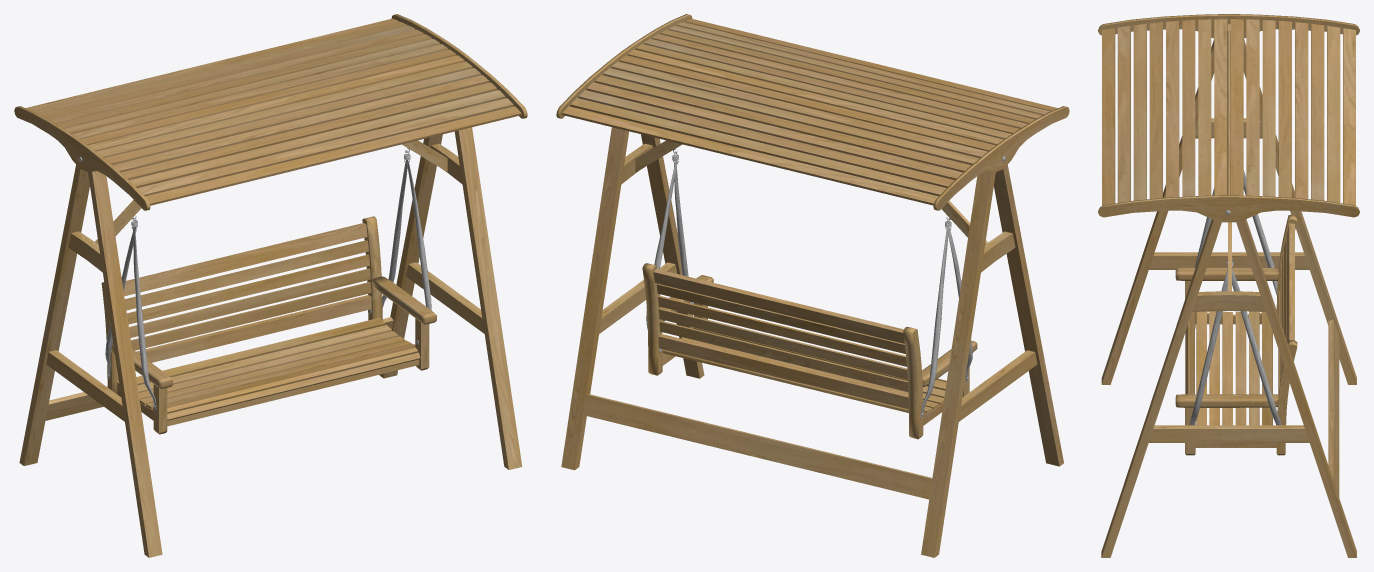
The model's file is balancelle.glb.
3 views of the same model, side by side, from view 1: azimuth 30°, elevation 25°; view 2: azimuth 150°, elevation 25°; view 3: azimuth 270°, elevation 25° (orthographic).
Parts seen in each view (by area): view 1: bench_Material_0, bench_metal_0; view 2: bench_Material_0, bench_metal_0; view 3: bench_Material_0, bench_metal_0.
Part boxes in pixels (x1,y1,x2,y2): bench_Material_0: (14, 14, 527, 557); bench_metal_0: (79, 148, 431, 410); bench_Material_0: (556, 14, 1069, 557); bench_metal_0: (646, 149, 1005, 417); bench_Material_0: (1098, 14, 1359, 557); bench_metal_0: (1189, 170, 1281, 425).
Size of the model in its own units: 2.81 by 2.58 by 1.69.
Materials: 2 (2 with a texture image).
